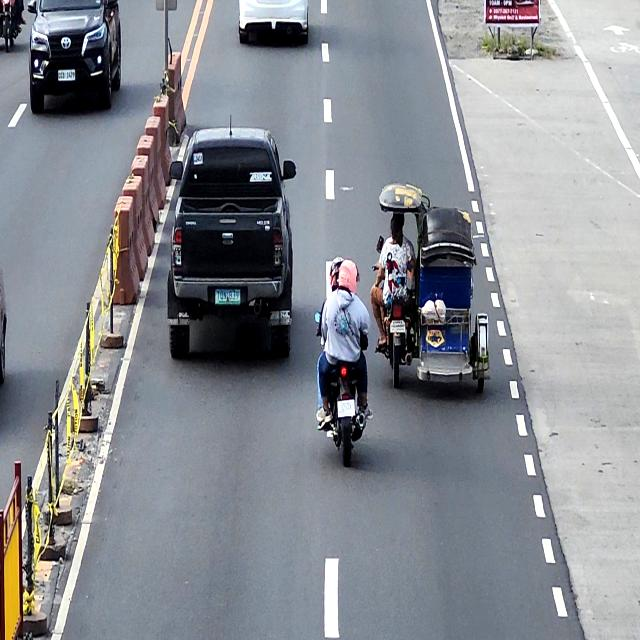Car: (167, 126, 297, 362), (28, 0, 122, 113), (239, 0, 308, 46)
License-Plate: (214, 288, 241, 304), (337, 400, 355, 416), (58, 70, 76, 82), (389, 321, 406, 333)
Motorcycle: (314, 310, 372, 468)
Tricycle: (372, 182, 491, 392)
